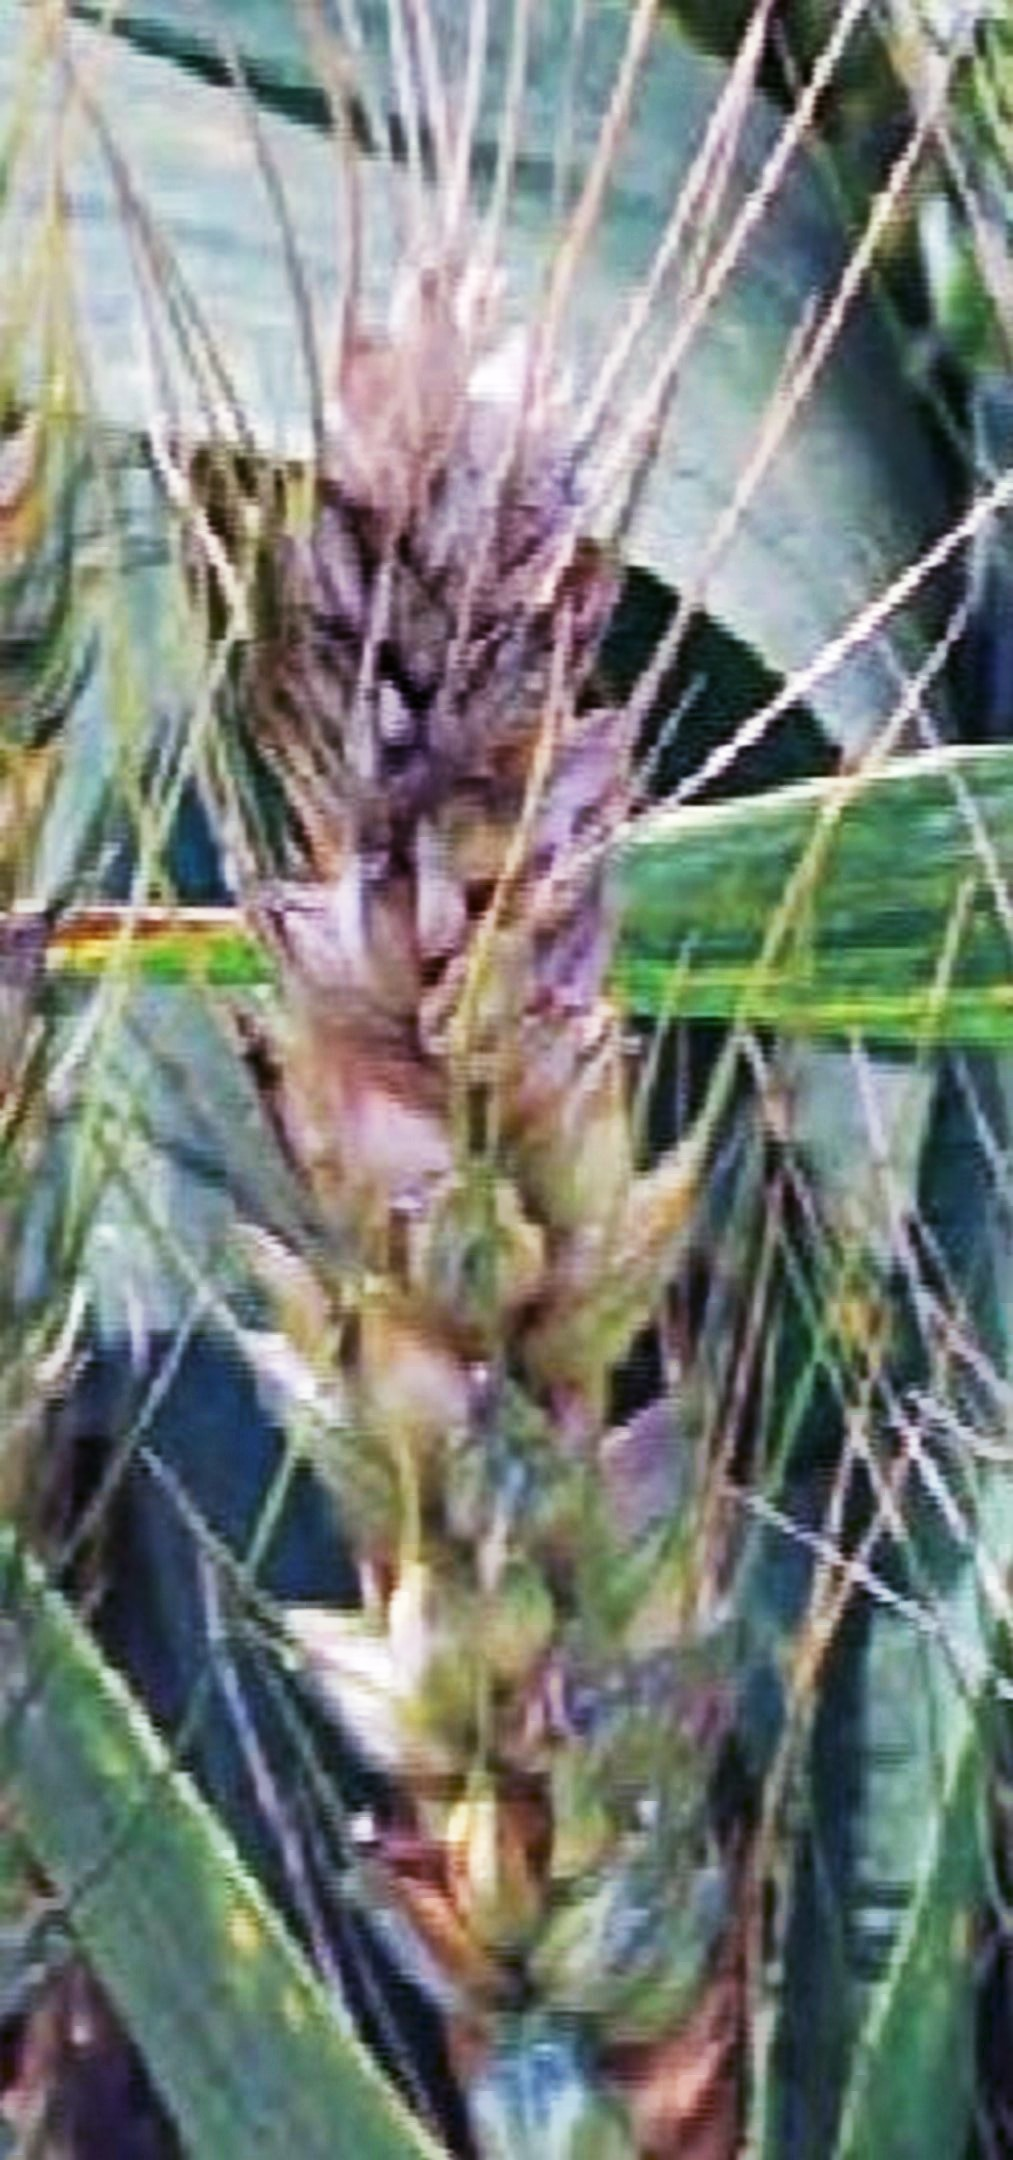Wheat scab: (236, 280, 733, 2031)
